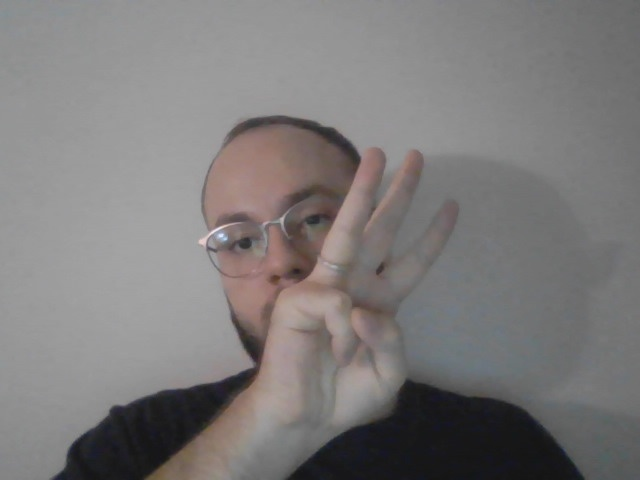Three: (255, 148, 460, 451)
